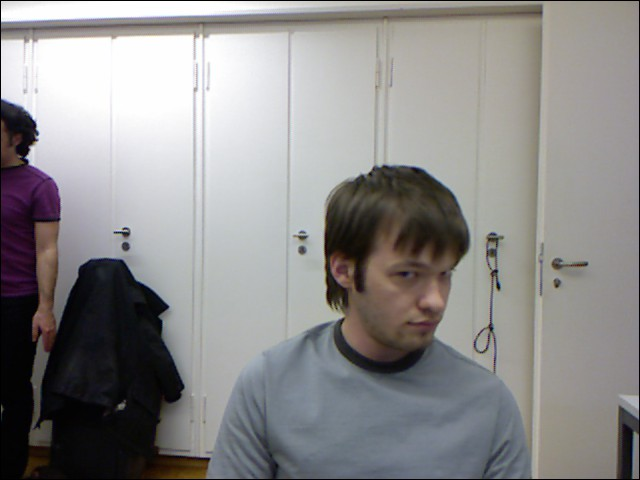deflection: (244, 179, 521, 480)
